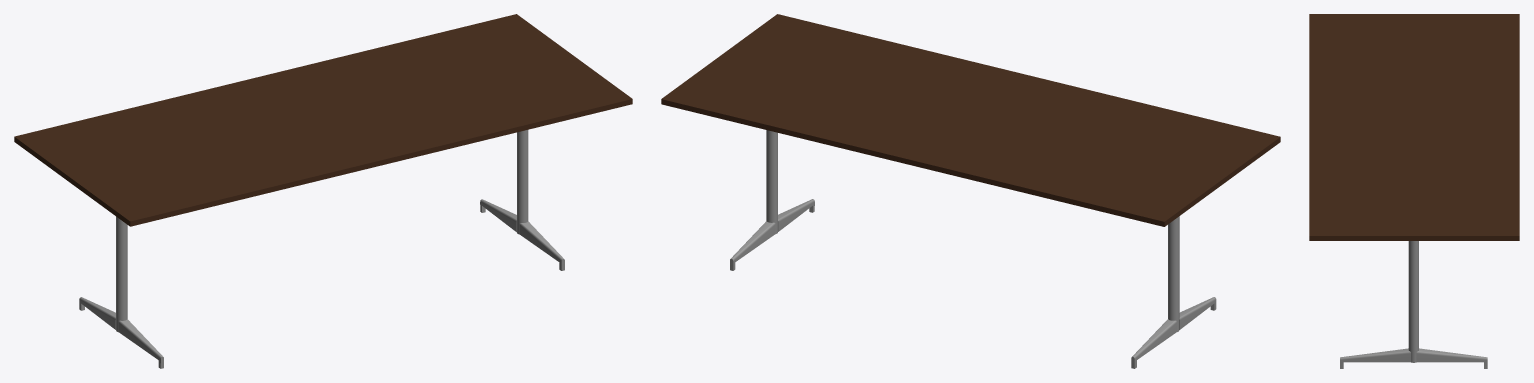
Rendered from Tisch.fbx.
3 views of the same model, side by side, from view 1: azimuth 30°, elevation 25°; view 2: azimuth 150°, elevation 25°; view 3: azimuth 270°, elevation 25° (orthographic). The views are drawn at different scales.
Visible parts, largest first — view 1: Table; view 2: Table; view 3: Table.
Boxes of the visible parts, bbox=[...] form: Table: bbox=[14, 14, 632, 368]; Table: bbox=[661, 14, 1280, 368]; Table: bbox=[1309, 14, 1519, 368].
Size of the model in its own units: 4000 by 1304 by 1600.
